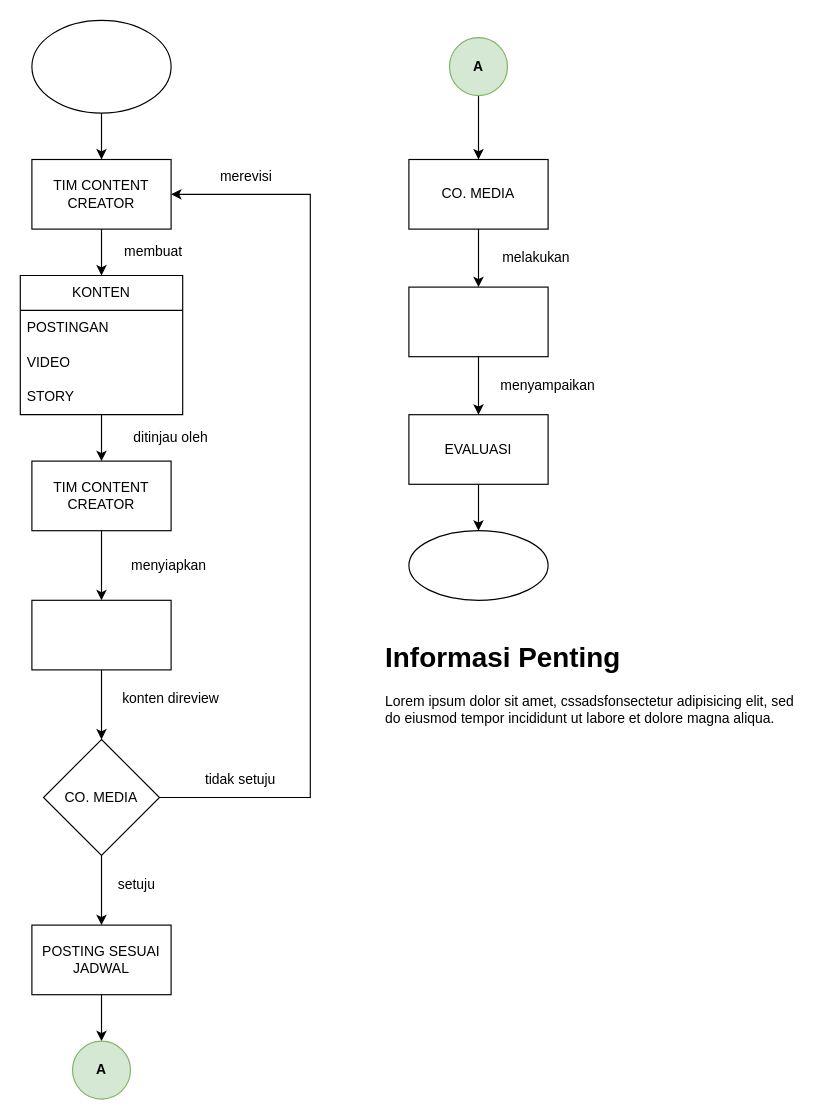
This 829x1119 diagram has some shape labels left out. Here are the shapes that lost their labels. From the top down, the centre of each, then its label:
[101,66]: START
[478,321]: ANALISIS & KINERJA KONTEN
[478,565]: STOP
[101,634]: CAPTION & HASHTAG
